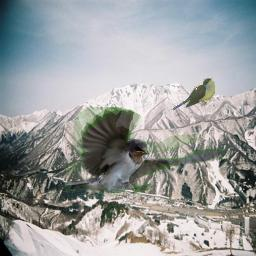Cuckoo: (169, 78, 215, 111)
Swallow: (65, 107, 229, 194)
